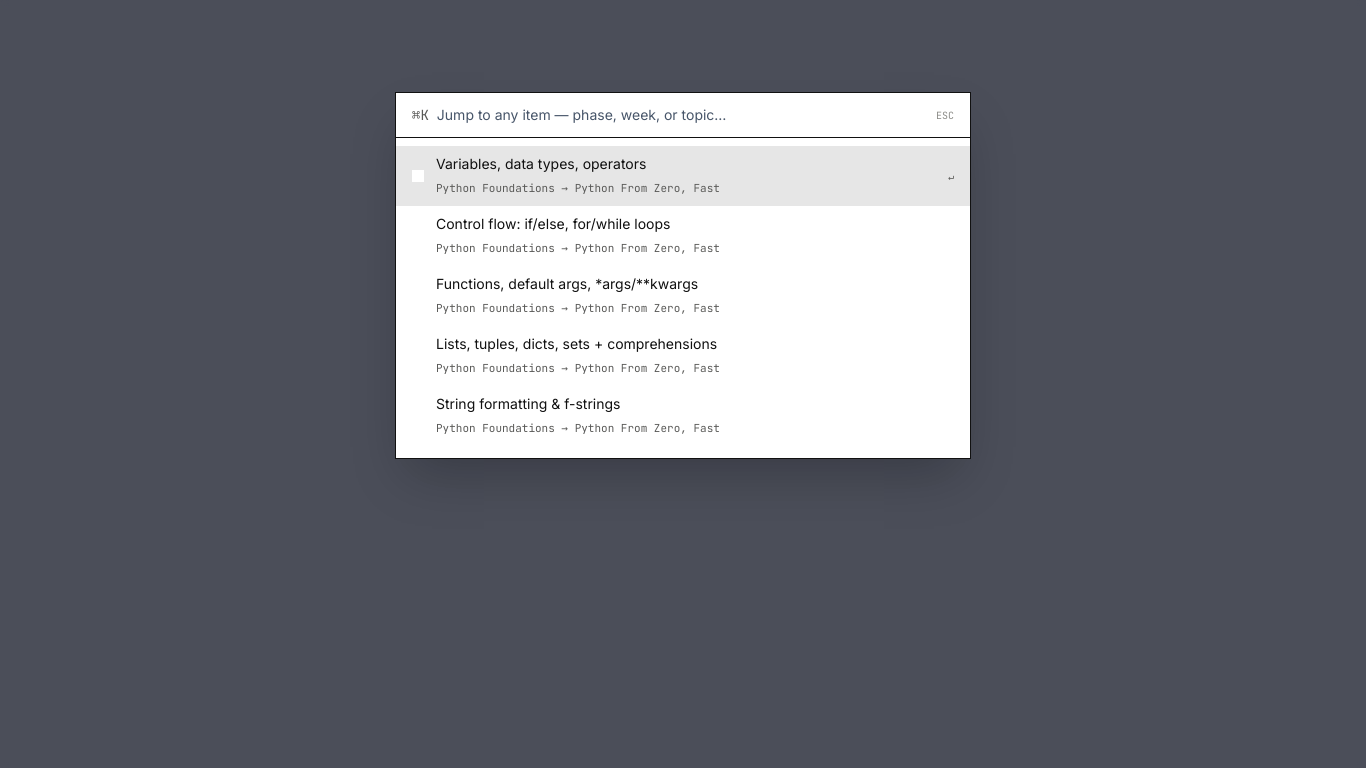
Test: <CommandPalette /> › filters by query and shows matches
The image size is (1366, 768).
Type "RAG" into the field with test id "command-palette-input".
click(682, 115); type("RAG")  # box left=437, top=93, right=928, bottom=137
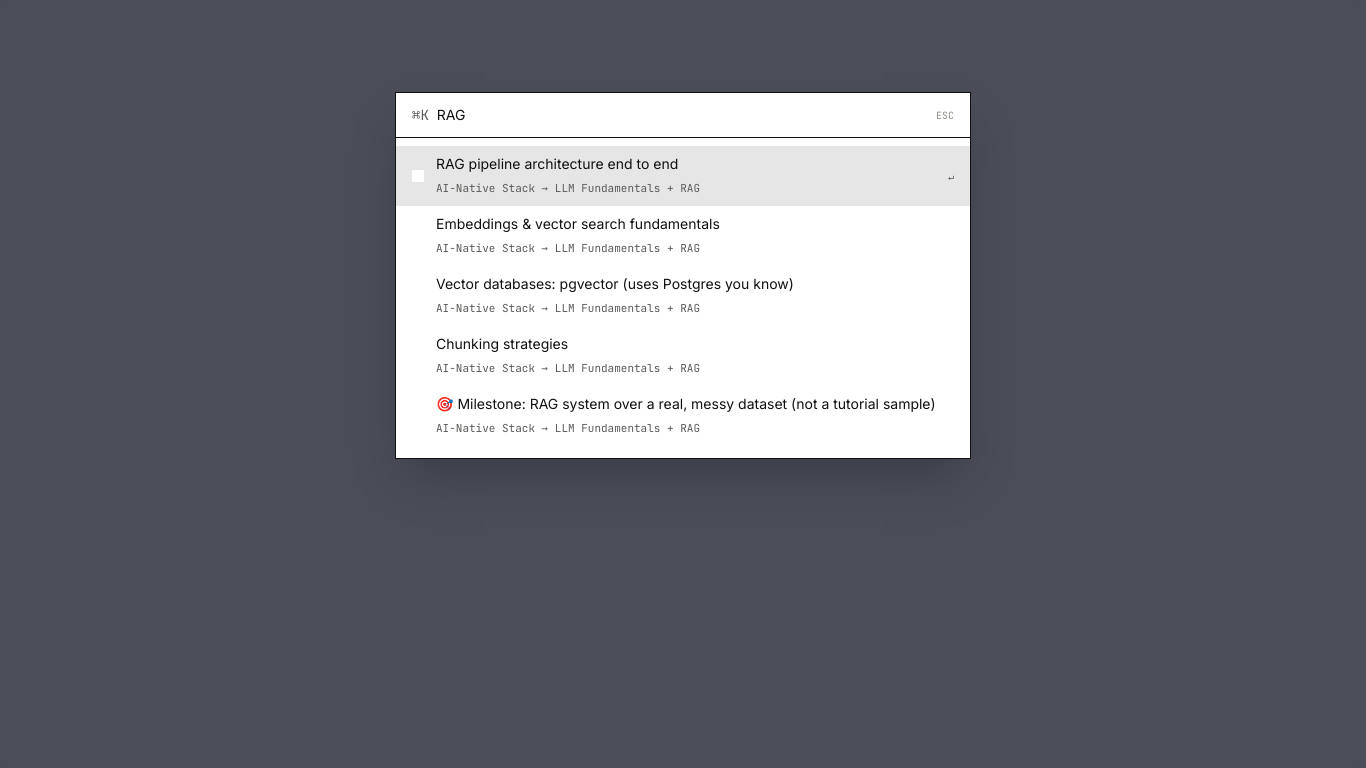
Now the button with test id "command-palette-item" shows "RAG", box left=396, top=146, right=970, bottom=206
